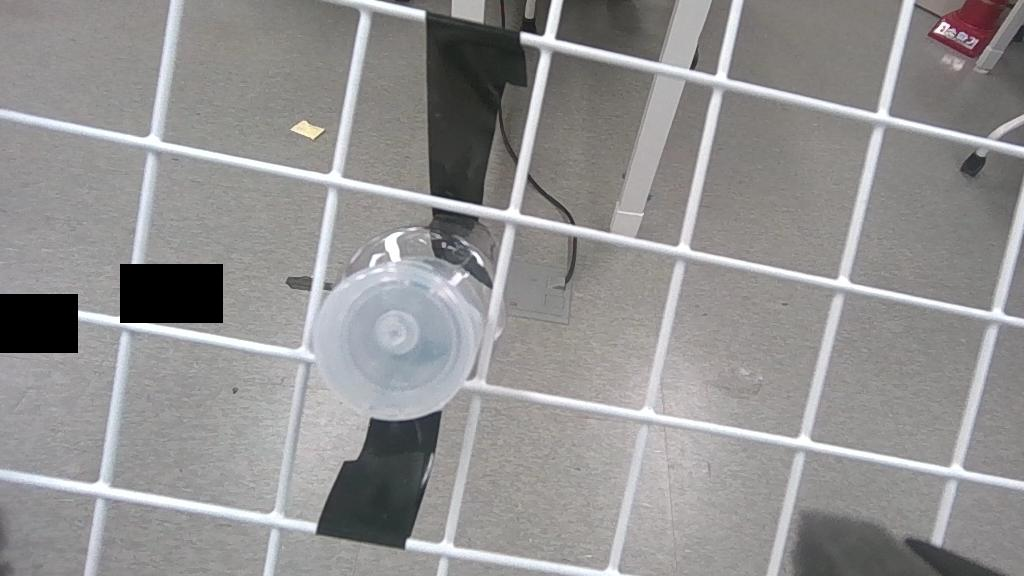Cap: (312, 268, 476, 424)
